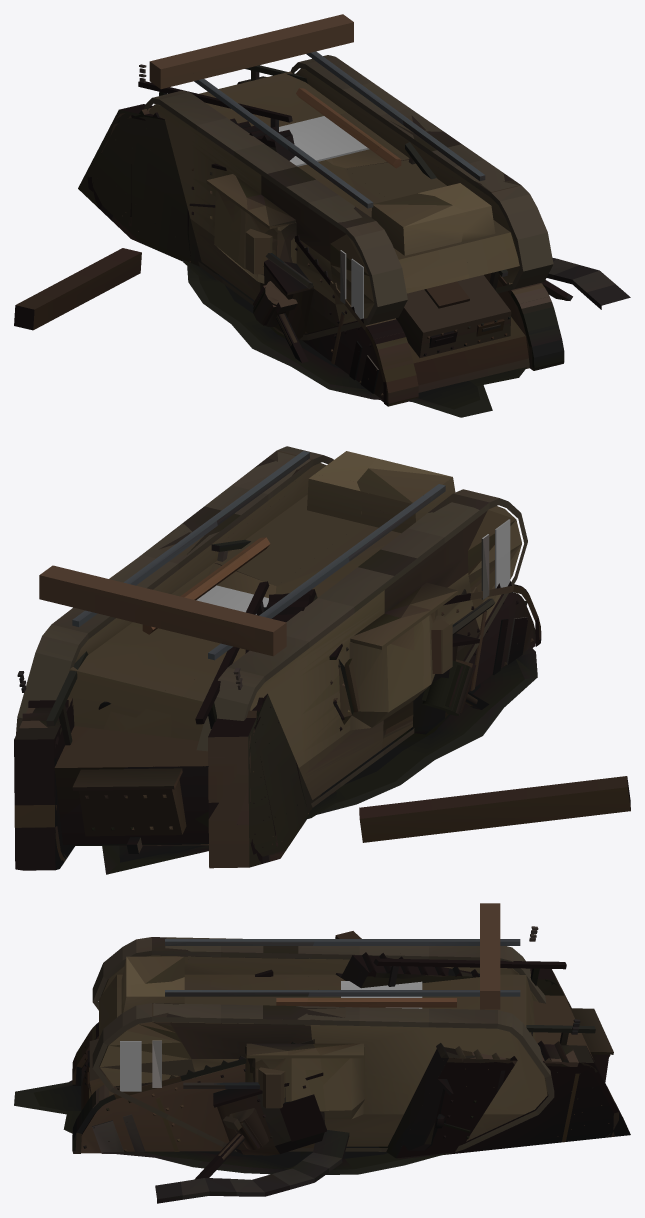
Rendered from tank_ww1_rhomboid_fractured.glb.
The picture shows the model from 3 angles, top to bottom: view 1: azimuth 30°, elevation 25°; view 2: azimuth 150°, elevation 25°; view 3: azimuth 270°, elevation 25°; orthographic projection. The views are drawn at different scales.
Visible parts, largest first — view 1: tank_ww1_rhomboid_DMG_mesh, tank_ww1_rhomboid_RUIN_LOD0_mesh, tank_ww1_rhomboid_RUIN_LOD1_mesh, tank_ww1_rhomboid_RUIN_LOD2_mesh, tank_ww1_rhomboid_FRAC_05_mesh, tank_ww1_rhomboid_FRAC_01_mesh, tank_ww1_rhomboid_FRAC_04_mesh, tank_ww1_rhomboid_FRAC_00_mesh, tank_ww1_rhomboid_FRAC_03_mesh, tank_ww1_rhomboid_FRAC_07_mesh, tank_ww1_rhomboid_FRAC_02_mesh, tank_ww1_rhomboid_FRAC_12_mesh (+6 smaller); view 2: tank_ww1_rhomboid_DMG_mesh, tank_ww1_rhomboid_RUIN_LOD0_mesh, tank_ww1_rhomboid_RUIN_LOD2_mesh, tank_ww1_rhomboid_FRAC_05_mesh, tank_ww1_rhomboid_FRAC_07_mesh, tank_ww1_rhomboid_RUIN_LOD1_mesh, tank_ww1_rhomboid_FRAC_03_mesh, tank_ww1_rhomboid_FRAC_02_mesh, tank_ww1_rhomboid_FRAC_00_mesh, tank_ww1_rhomboid_FRAC_12_mesh, tank_ww1_rhomboid_FRAC_01_mesh, tank_ww1_rhomboid_FRAC_14_mesh (+6 smaller); view 3: tank_ww1_rhomboid_DMG_mesh, tank_ww1_rhomboid_RUIN_LOD0_mesh, tank_ww1_rhomboid_RUIN_LOD2_mesh, tank_ww1_rhomboid_RUIN_LOD1_mesh, tank_ww1_rhomboid_FRAC_05_mesh, tank_ww1_rhomboid_FRAC_04_mesh, tank_ww1_rhomboid_FRAC_00_mesh, tank_ww1_rhomboid_FRAC_12_mesh, tank_ww1_rhomboid_FRAC_03_mesh, tank_ww1_rhomboid_FRAC_09_mesh, tank_ww1_rhomboid_FRAC_14_mesh, tank_ww1_rhomboid_FRAC_02_mesh (+6 smaller).
Boxes of the visible parts, bbox=[...] form: tank_ww1_rhomboid_DMG_mesh: bbox=[149, 53, 553, 333]; tank_ww1_rhomboid_RUIN_LOD0_mesh: bbox=[16, 64, 630, 417]; tank_ww1_rhomboid_RUIN_LOD1_mesh: bbox=[14, 107, 558, 405]; tank_ww1_rhomboid_RUIN_LOD2_mesh: bbox=[78, 76, 572, 392]; tank_ww1_rhomboid_FRAC_05_mesh: bbox=[179, 14, 376, 134]; tank_ww1_rhomboid_FRAC_01_mesh: bbox=[329, 193, 468, 331]; tank_ww1_rhomboid_FRAC_04_mesh: bbox=[435, 175, 553, 293]; tank_ww1_rhomboid_FRAC_00_mesh: bbox=[292, 82, 434, 159]; tank_ww1_rhomboid_FRAC_03_mesh: bbox=[188, 98, 333, 305]; tank_ww1_rhomboid_FRAC_07_mesh: bbox=[346, 146, 476, 200]; tank_ww1_rhomboid_FRAC_02_mesh: bbox=[143, 54, 229, 124]; tank_ww1_rhomboid_FRAC_12_mesh: bbox=[292, 165, 388, 303]; tank_ww1_rhomboid_DMG_mesh: bbox=[25, 446, 521, 799]; tank_ww1_rhomboid_RUIN_LOD0_mesh: bbox=[14, 539, 630, 874]; tank_ww1_rhomboid_RUIN_LOD2_mesh: bbox=[14, 589, 489, 870]; tank_ww1_rhomboid_FRAC_05_mesh: bbox=[16, 563, 270, 734]; tank_ww1_rhomboid_FRAC_07_mesh: bbox=[215, 474, 361, 585]; tank_ww1_rhomboid_RUIN_LOD1_mesh: bbox=[14, 585, 630, 863]; tank_ww1_rhomboid_FRAC_03_mesh: bbox=[244, 555, 414, 807]; tank_ww1_rhomboid_FRAC_02_mesh: bbox=[146, 615, 298, 751]; tank_ww1_rhomboid_FRAC_00_mesh: bbox=[115, 519, 266, 612]; tank_ww1_rhomboid_FRAC_12_mesh: bbox=[276, 499, 472, 624]; tank_ww1_rhomboid_FRAC_01_mesh: bbox=[360, 477, 527, 636]; tank_ww1_rhomboid_FRAC_14_mesh: bbox=[342, 495, 469, 612]; tank_ww1_rhomboid_DMG_mesh: bbox=[92, 937, 547, 1146]; tank_ww1_rhomboid_RUIN_LOD0_mesh: bbox=[14, 926, 616, 1203]; tank_ww1_rhomboid_RUIN_LOD2_mesh: bbox=[81, 955, 630, 1179]; tank_ww1_rhomboid_RUIN_LOD1_mesh: bbox=[63, 931, 618, 1169]; tank_ww1_rhomboid_FRAC_05_mesh: bbox=[399, 914, 554, 1136]; tank_ww1_rhomboid_FRAC_04_mesh: bbox=[92, 981, 197, 1133]; tank_ww1_rhomboid_FRAC_00_mesh: bbox=[304, 990, 490, 1151]; tank_ww1_rhomboid_FRAC_12_mesh: bbox=[184, 963, 326, 1000]; tank_ww1_rhomboid_FRAC_03_mesh: bbox=[308, 939, 444, 997]; tank_ww1_rhomboid_FRAC_09_mesh: bbox=[166, 990, 309, 1064]; tank_ww1_rhomboid_FRAC_14_mesh: bbox=[183, 937, 314, 963]; tank_ww1_rhomboid_FRAC_02_mesh: bbox=[441, 903, 546, 1015].
Size of the model in its own units: 9.14 by 3.06 by 10.25.
